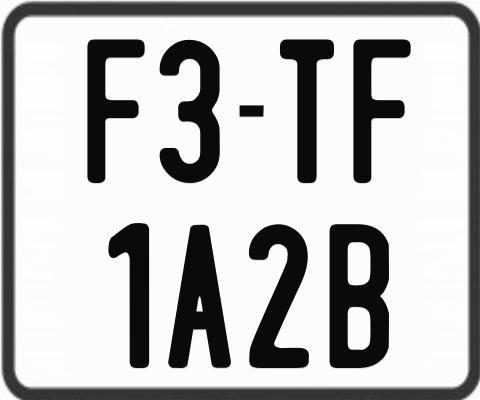1: (105, 223, 148, 371)
2: (247, 223, 310, 369)
3: (159, 40, 224, 183)
A: (168, 223, 233, 372)
B: (327, 223, 387, 372)
F: (87, 38, 148, 188), (352, 37, 413, 185)
T: (279, 36, 338, 184)
